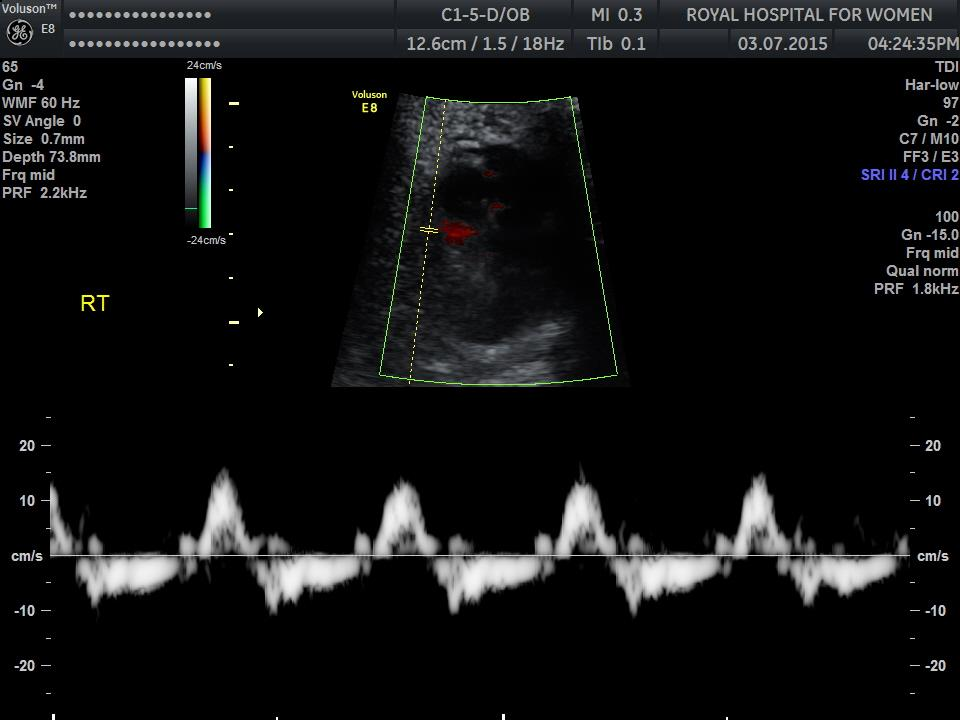Ultrasound-Waves: (51, 410, 910, 718)
